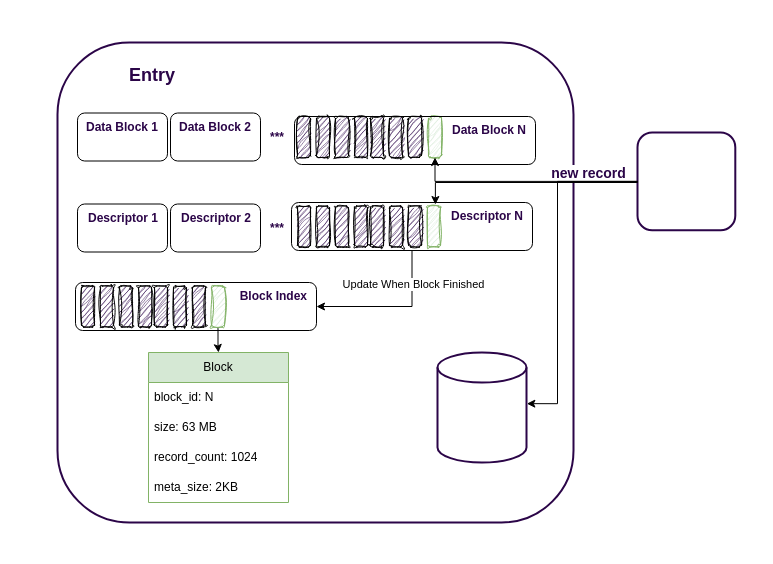
The diagram is 773 pixels wide and 564 high, and some of its shapes have lost their labels. The centre of each missing label's shape, as x and y in pixels:
HTTP Front End: [686,181]
WAL: [481,407]
